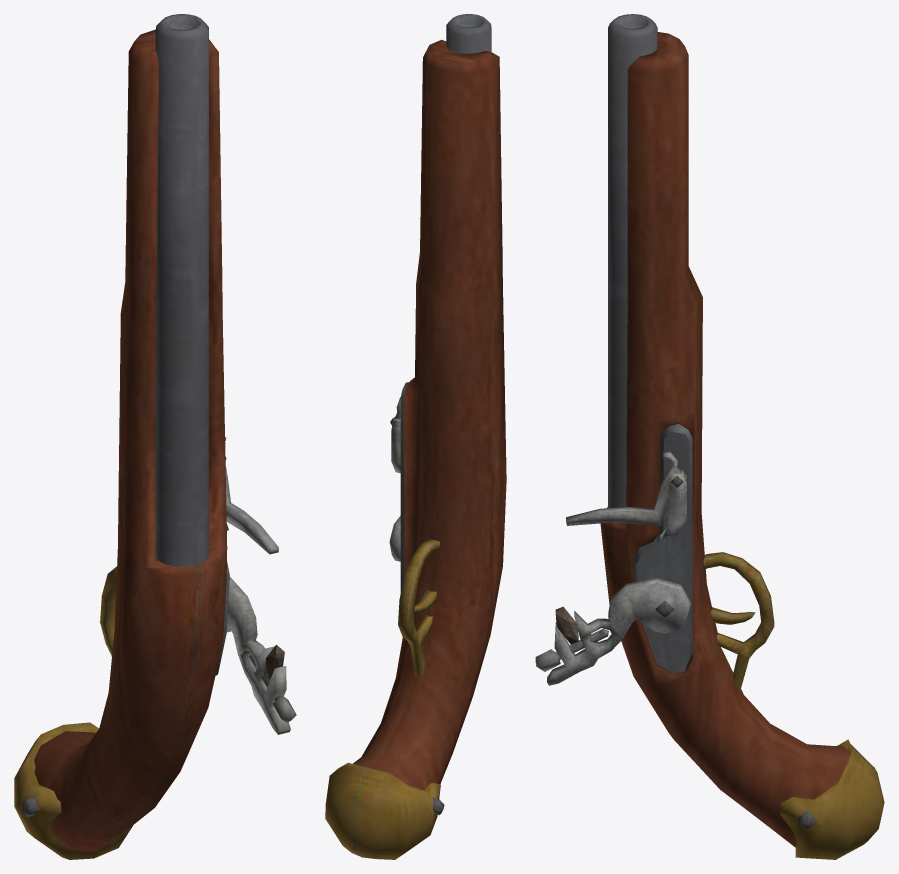
The model's file is pistol.glb.
3 views of the same model, side by side, from view 1: azimuth 30°, elevation 25°; view 2: azimuth 150°, elevation 25°; view 3: azimuth 270°, elevation 25° (orthographic). The views are drawn at different scales.
Visible parts, largest first — view 1: Cylinder.003, Cylinder.000, Cylinder.001; view 2: Cylinder.003, Cylinder.004, Cylinder.000; view 3: Cylinder.003, Cylinder.000, Cylinder.004, Cylinder.001.
Boxes of the visible parts, bbox=[...] form: Cylinder.003: bbox=[14, 14, 228, 859]; Cylinder.000: bbox=[226, 577, 296, 734]; Cylinder.001: bbox=[225, 437, 278, 554]; Cylinder.003: bbox=[325, 14, 506, 859]; Cylinder.004: bbox=[400, 382, 409, 592]; Cylinder.000: bbox=[389, 516, 400, 561]; Cylinder.003: bbox=[600, 14, 884, 859]; Cylinder.000: bbox=[535, 578, 690, 685]; Cylinder.004: bbox=[633, 424, 692, 673]; Cylinder.001: bbox=[566, 451, 686, 525].
Size of the model in its own units: 0.071 by 0.458 by 0.1741.
4 materials, 4 textured.
